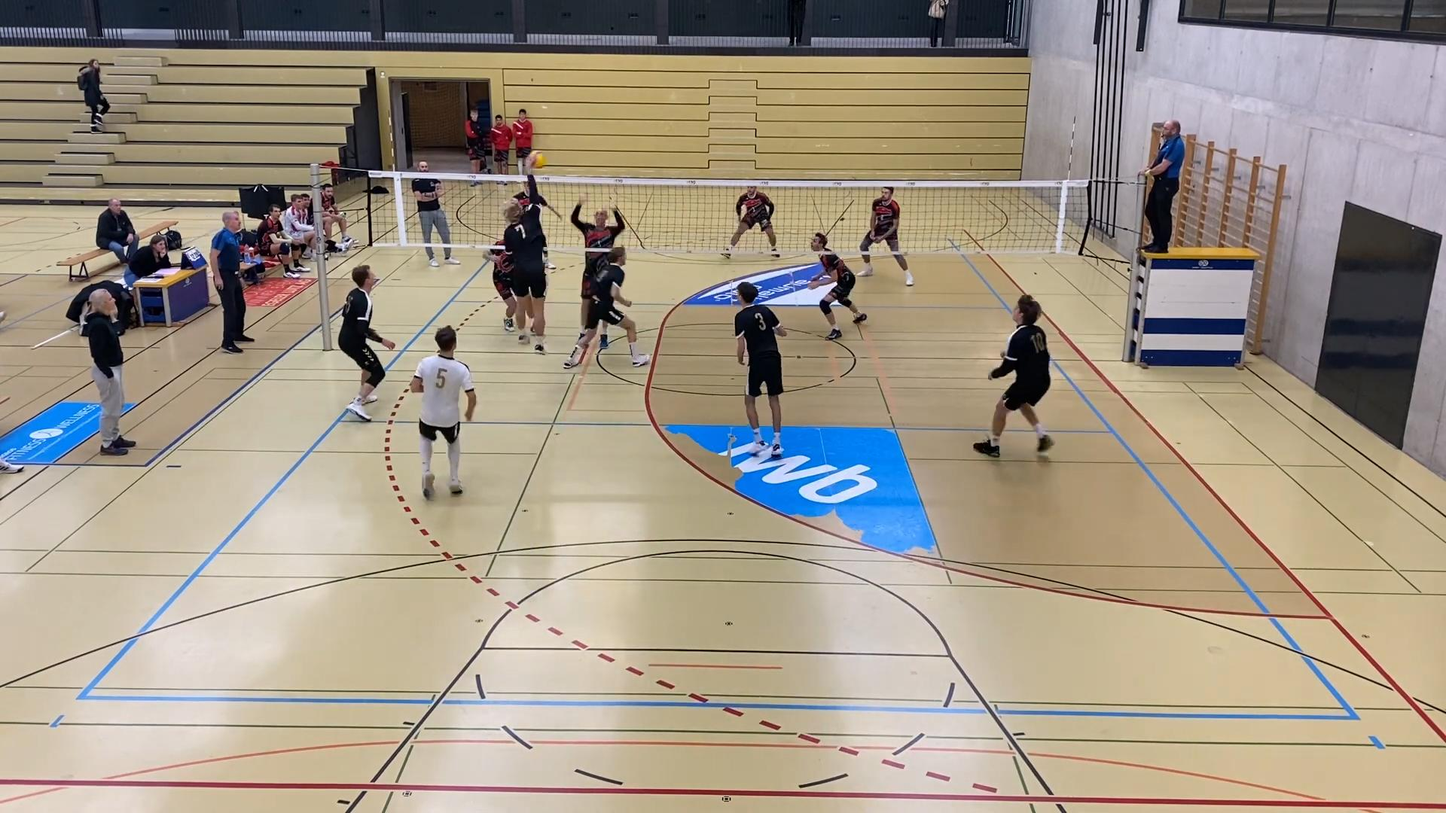Attack: (502, 154, 550, 353)
Player: (973, 296, 1053, 457), (410, 325, 477, 499), (563, 247, 650, 368), (734, 282, 786, 458), (337, 264, 395, 420), (571, 196, 624, 336), (808, 233, 866, 340), (859, 187, 914, 285), (514, 155, 555, 269), (723, 186, 779, 257), (490, 245, 517, 332)
ball: (528, 152, 546, 169)
